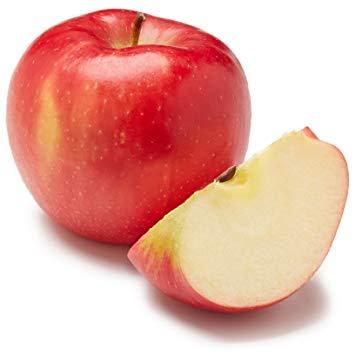apple: (9, 9, 252, 245)
